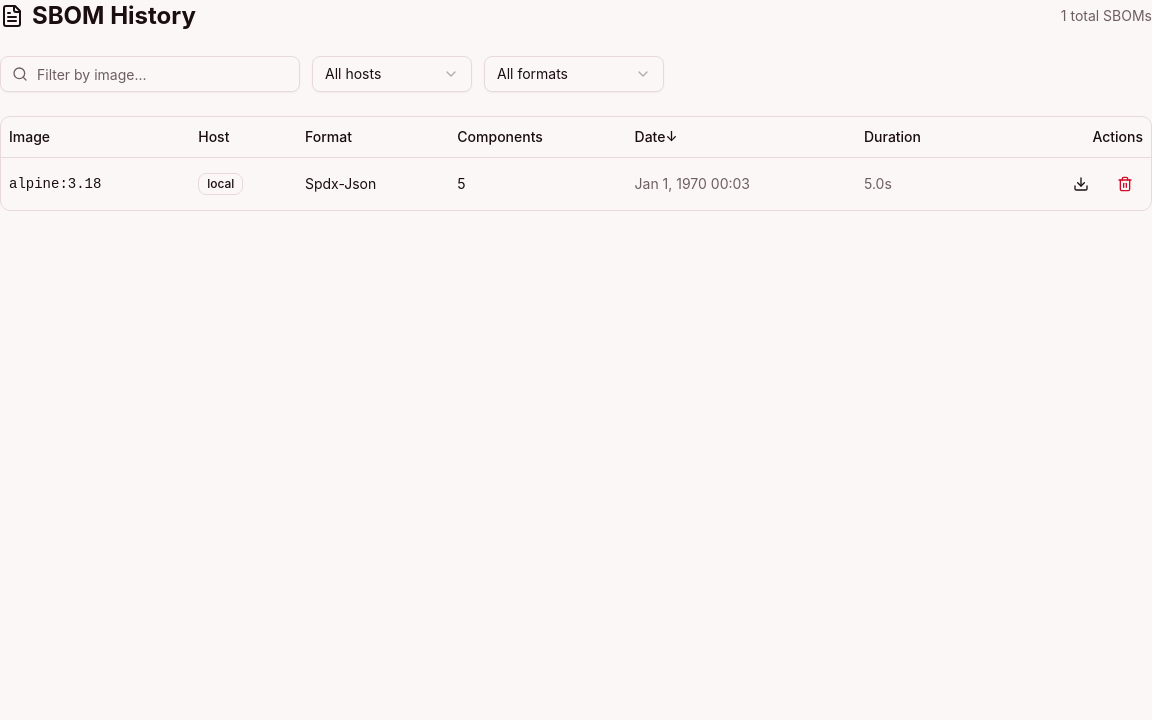
Scenario: SBOMHistoryPage › opens the SBOM details dialog from the row button
Click the button "alpine:3.18": point(55, 184) x1=9 y1=174 x2=101 y2=194
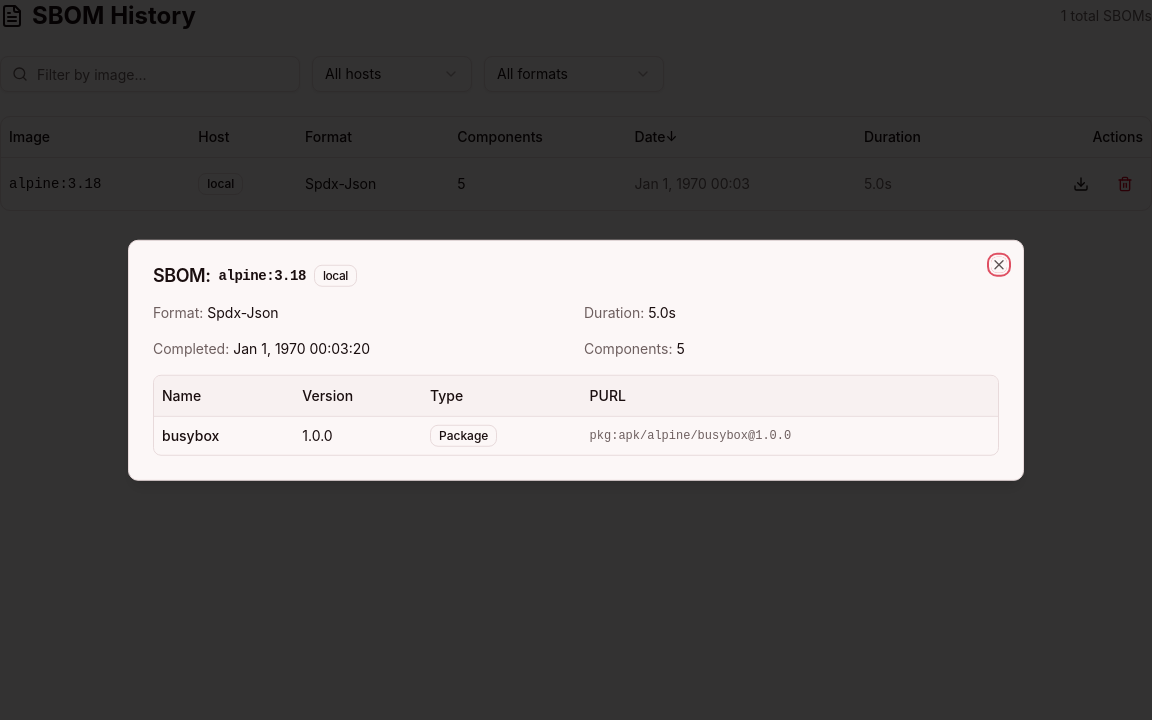
Check: the text "busybox" is shown, box x1=154 y1=416 x2=294 y2=454
Check: the text "SBOM: alpine:3.18 local" is shown, box x1=153 y1=265 x2=357 y2=287
